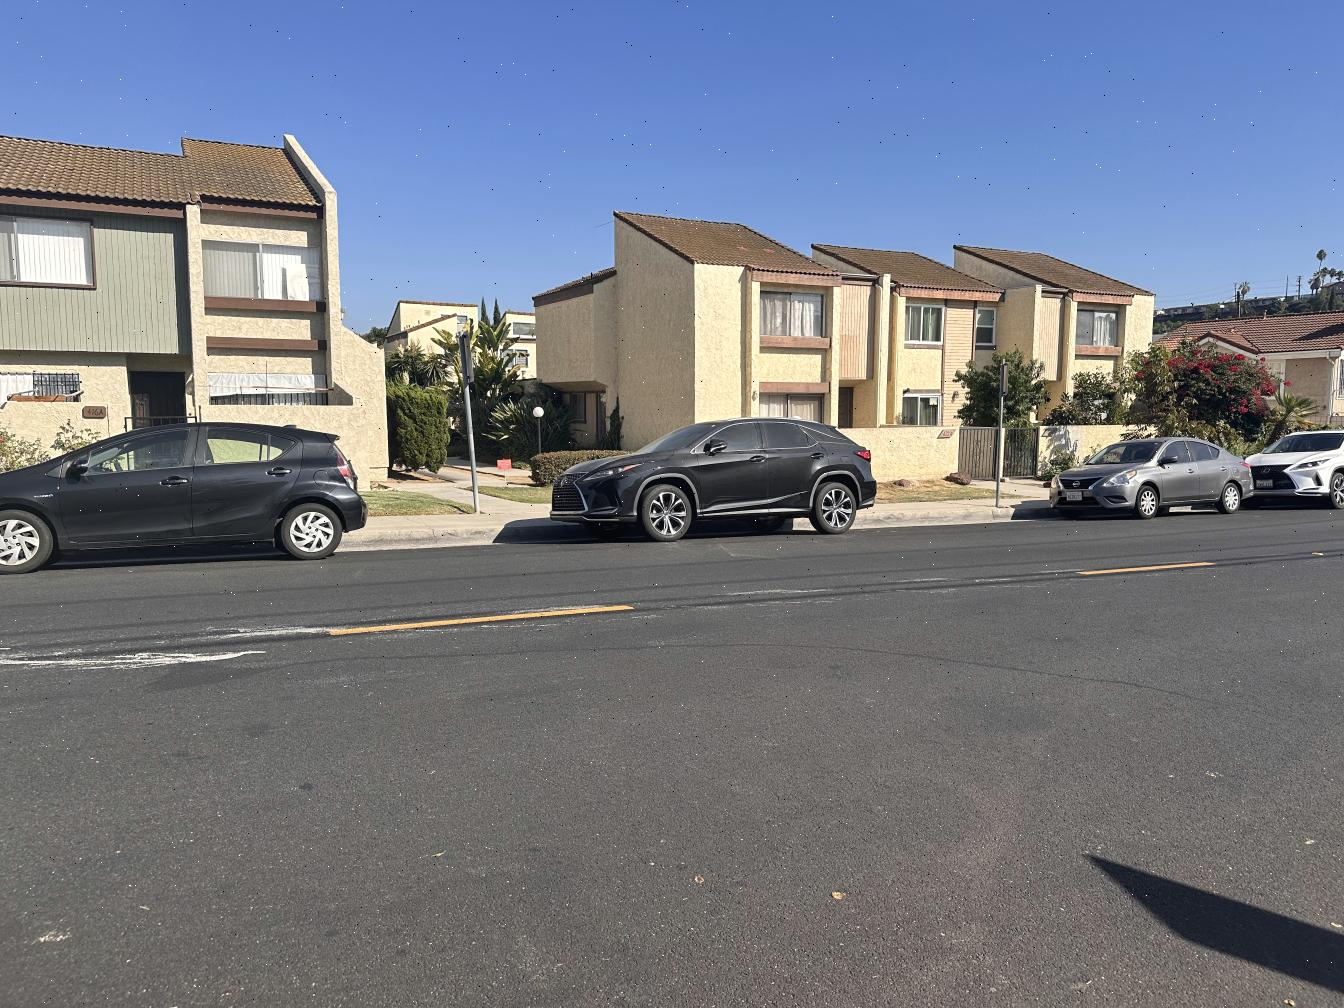curbs-laRr: (369, 526, 534, 550), (879, 510, 1033, 525)
